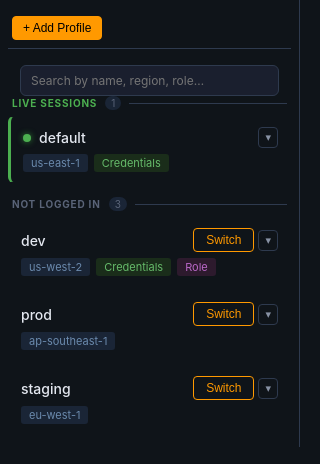
ProfileList search › filters by name substring (case-insensitive)
The image size is (320, 464).
Type "PR" into the search field named "Filter profiles". click: (150, 80)
box: [20, 65, 279, 96]
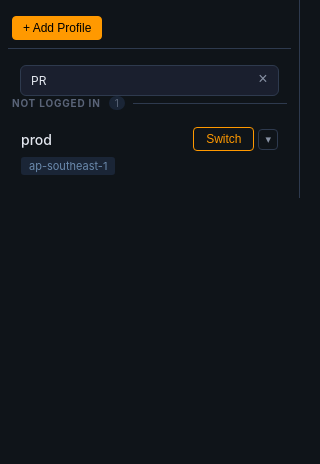
Now the option "default" is gone
Now the option "dev" is gone
Now the option "staging" is gone
